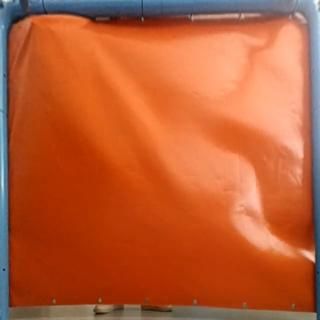Hit-hRxx: (28, 18, 38, 26)
